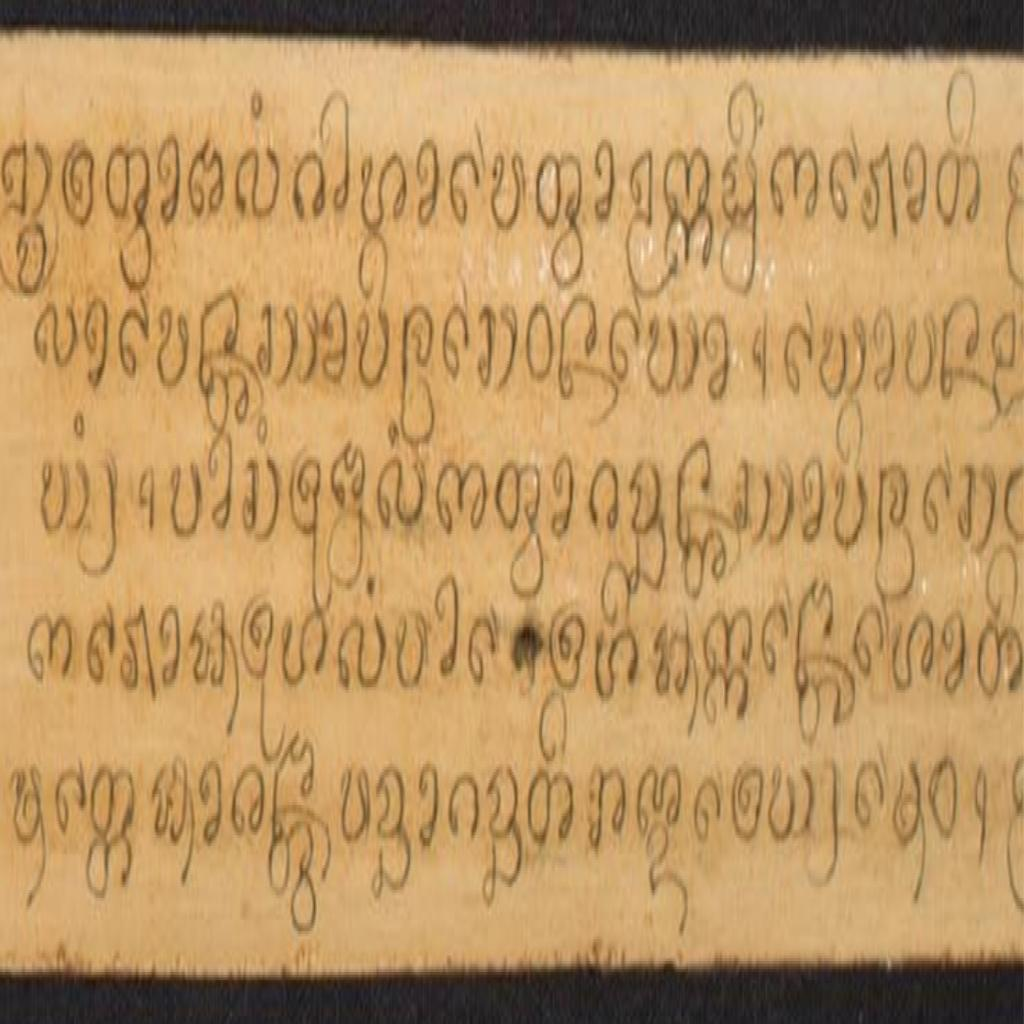LN014: (718, 148, 761, 306)
